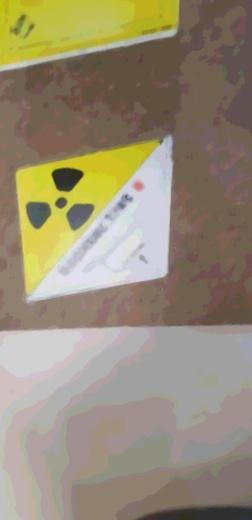radioactive: (12, 134, 173, 304)
